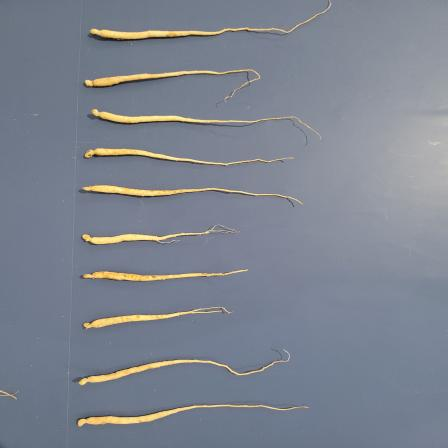Ginseng: (81, 0, 334, 41), (73, 348, 290, 388), (88, 106, 326, 140), (81, 66, 265, 102), (71, 402, 310, 429), (78, 183, 306, 206), (80, 146, 297, 169), (80, 302, 233, 332), (76, 222, 242, 246), (76, 267, 250, 284)
head: (83, 147, 101, 159), (90, 108, 106, 120), (89, 28, 107, 38), (80, 234, 98, 244), (78, 375, 94, 386), (83, 79, 102, 88), (76, 417, 93, 427), (82, 185, 99, 193), (82, 321, 99, 328), (80, 272, 96, 279)
